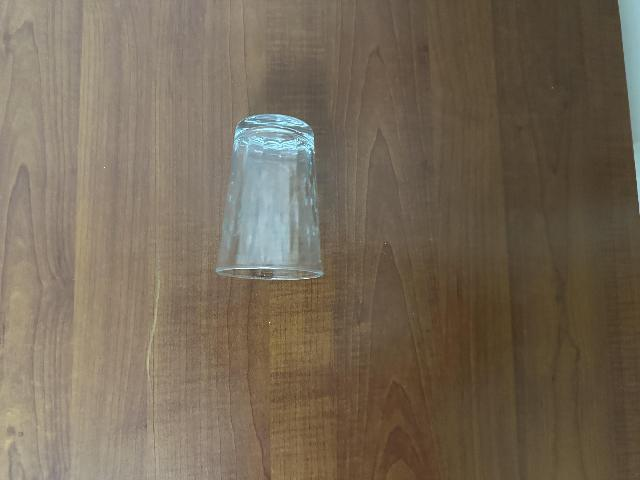Cam: (217, 114, 327, 286)
